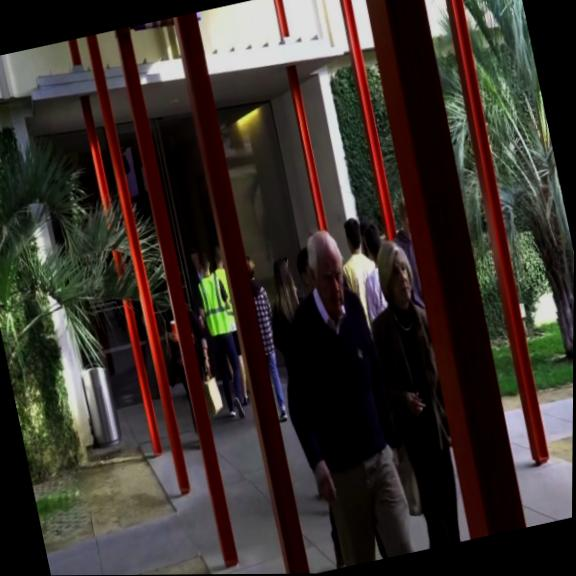safety_vest: (195, 274, 232, 338), (211, 265, 235, 322)
